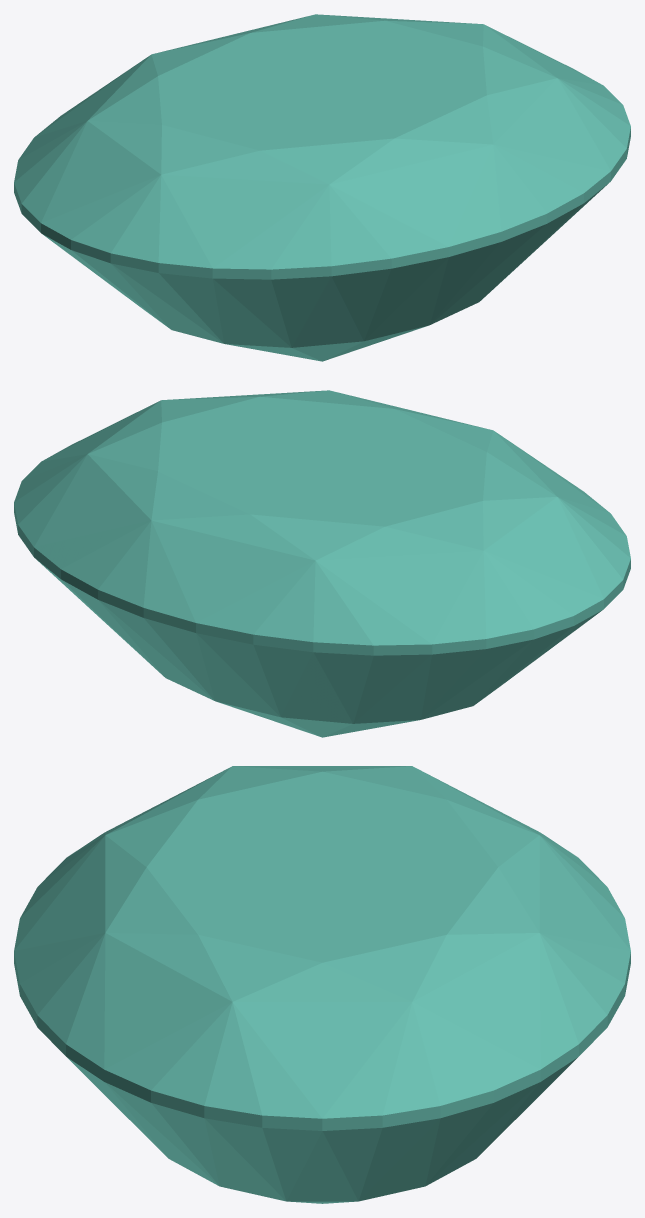
File: jewelry.glb
The picture shows the model from 3 angles, top to bottom: view 1: azimuth 30°, elevation 25°; view 2: azimuth 150°, elevation 25°; view 3: azimuth 270°, elevation 25°; orthographic projection. The views are drawn at different scales.
Parts seen in each view (by area): view 1: Gemstone Alexandrite; view 2: Gemstone Alexandrite; view 3: Gemstone Alexandrite.
Boxes of the visible parts, left/top/right/bottom form: Gemstone Alexandrite: left=14, top=14, right=630, bottom=361; Gemstone Alexandrite: left=14, top=390, right=630, bottom=737; Gemstone Alexandrite: left=14, top=766, right=630, bottom=1203.
Bounding box in the file's own units: 2.2 × 1.03 × 1.71.
